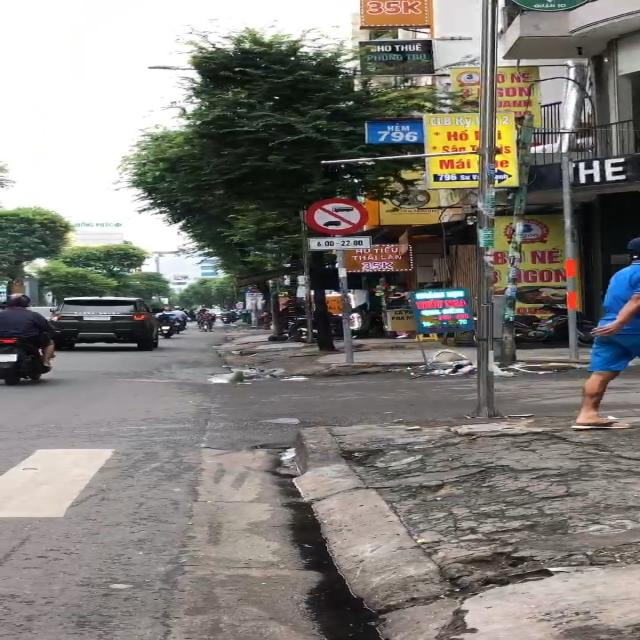Bien bao cam xe oto khach va xe oto tai: (304, 195, 372, 237)
